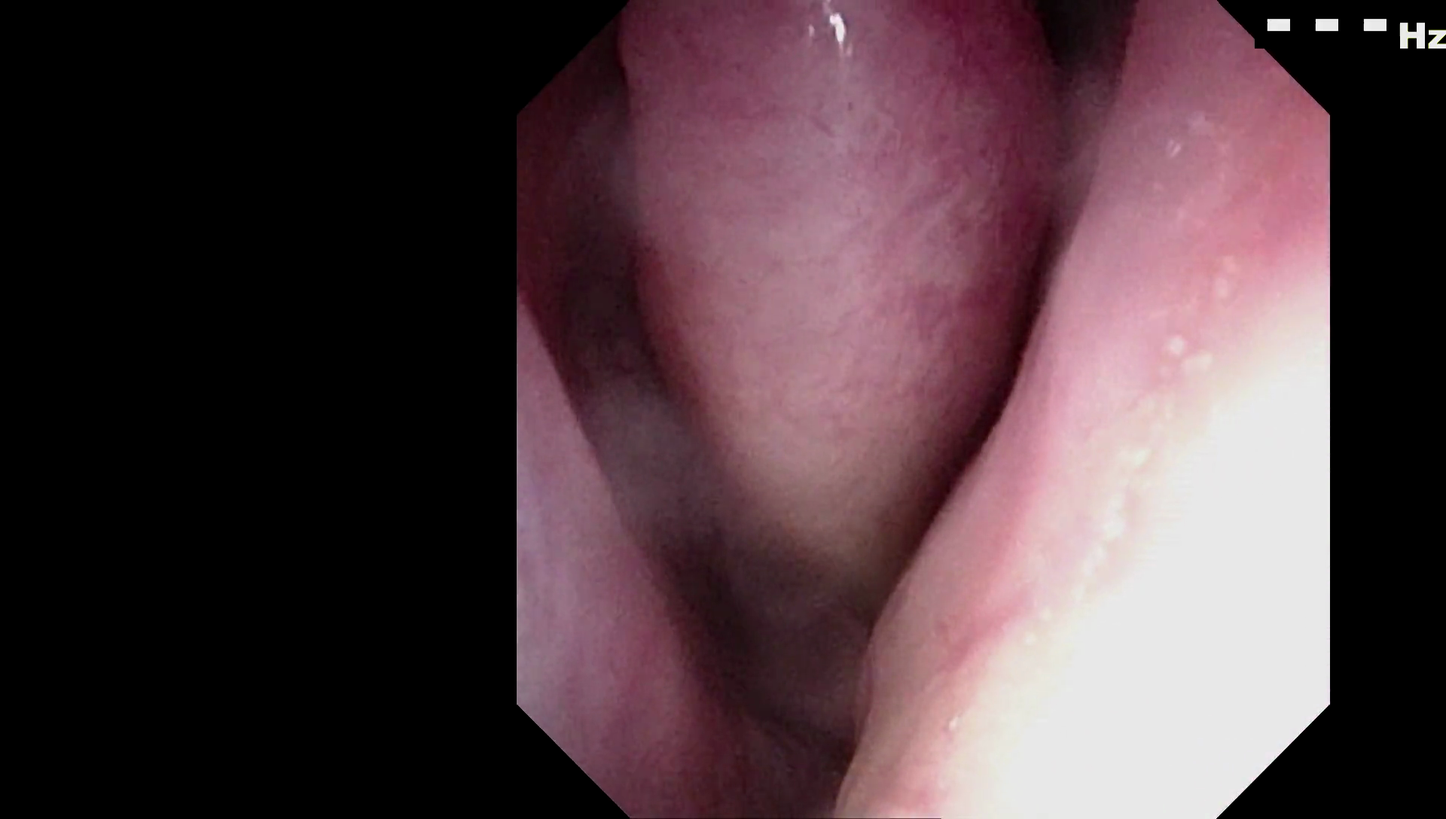close_wall: (1010, 273, 1320, 819)
next: (858, 221, 1083, 620), (632, 488, 894, 819), (1008, 0, 1148, 126)
